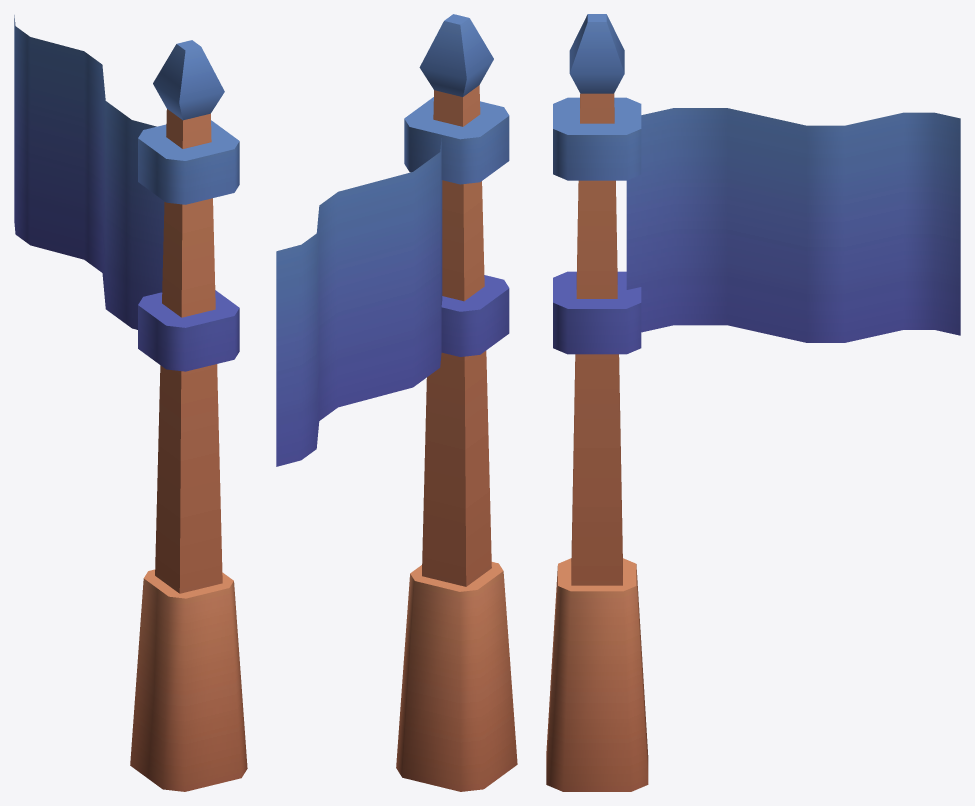
Rendered from flag.glb.
3 views of the same model, side by side, from view 1: azimuth 30°, elevation 25°; view 2: azimuth 150°, elevation 25°; view 3: azimuth 270°, elevation 25° (orthographic). The views are drawn at different scales.
Parts seen in each view (by area): view 1: flag; view 2: flag; view 3: flag.
Boxes of the visible parts, box(x1,y1,x2,y2) form: flag: box(14, 15, 247, 791); flag: box(276, 14, 517, 791); flag: box(546, 14, 960, 791).
Bounding box in the file's own units: 0.1064 × 0.8656 × 0.4323.
1 material, 1 textured.
